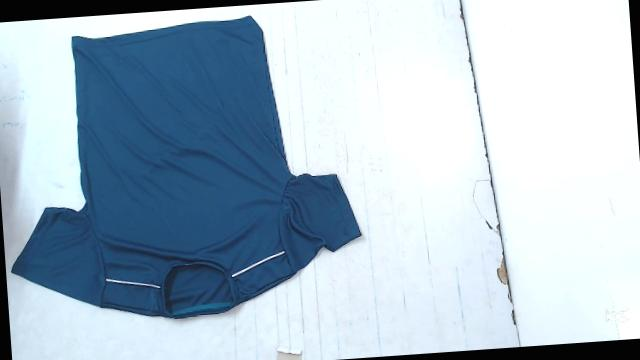new-garment: (11, 16, 360, 318)
